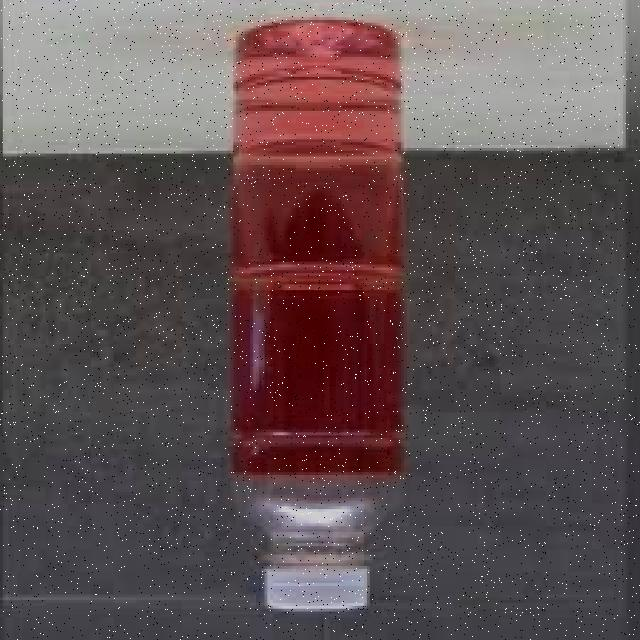bottle: (209, 12, 423, 608)
cap: (257, 564, 373, 608)
